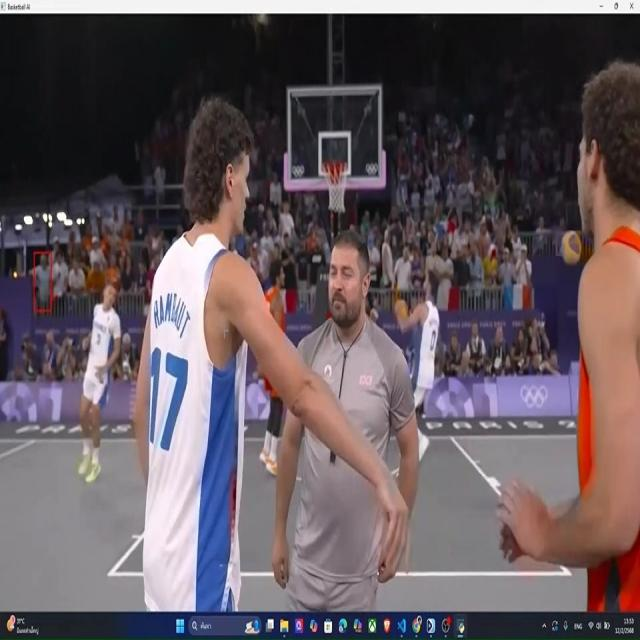hoop: (321, 160, 349, 210)
